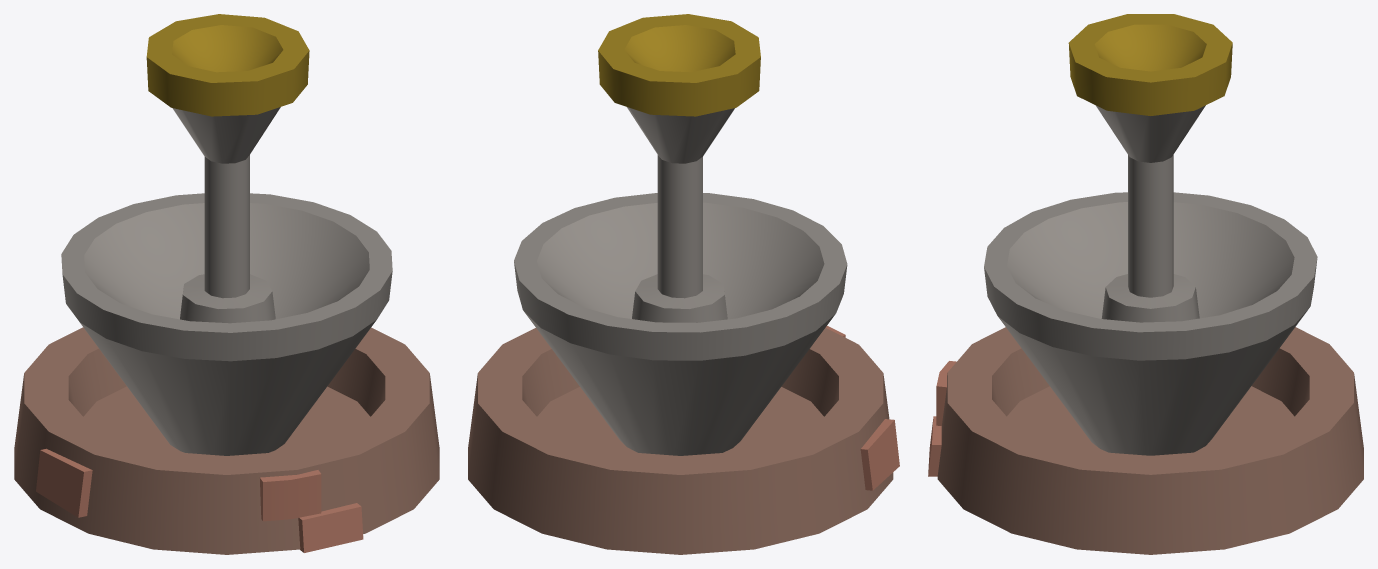
File: fountain_03.fbx
3 renders of one model, left to right at view 1: azimuth 30°, elevation 25°; view 2: azimuth 150°, elevation 25°; view 3: azimuth 270°, elevation 25°, orthographic.
Visible parts, largest first — view 1: fountain_03; view 2: fountain_03; view 3: fountain_03.
Part boxes in pixels (left/top/right/bottom): fountain_03: left=14, top=14, right=439, bottom=554; fountain_03: left=468, top=14, right=899, bottom=554; fountain_03: left=928, top=14, right=1363, bottom=554.
Bounding box in the file's own units: 207 × 217 × 206.
